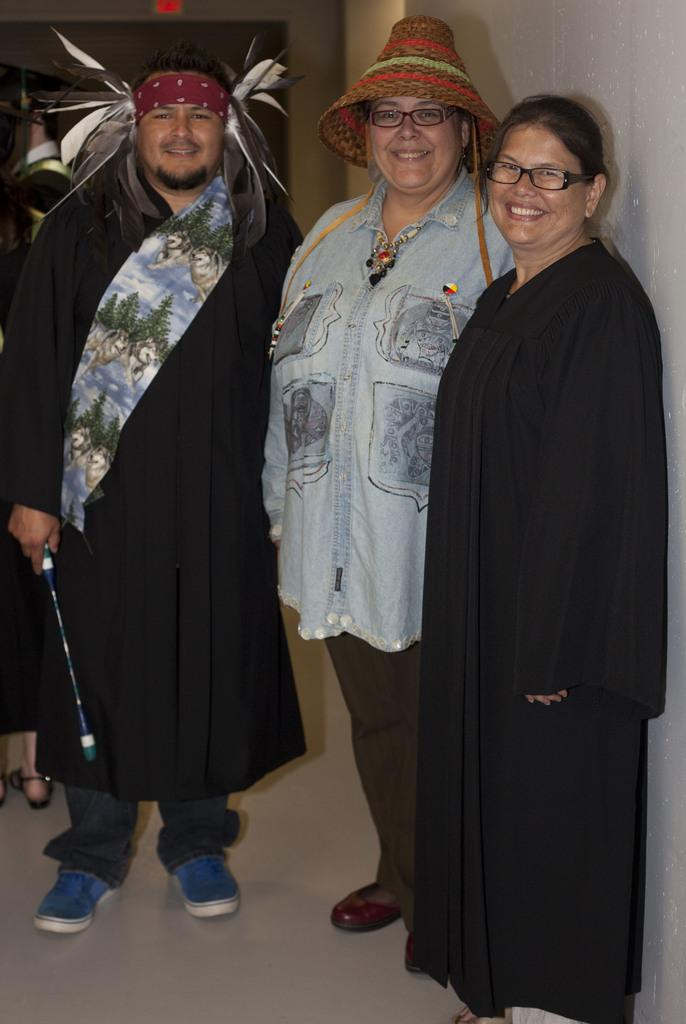Hat: (276, 14, 504, 303)
